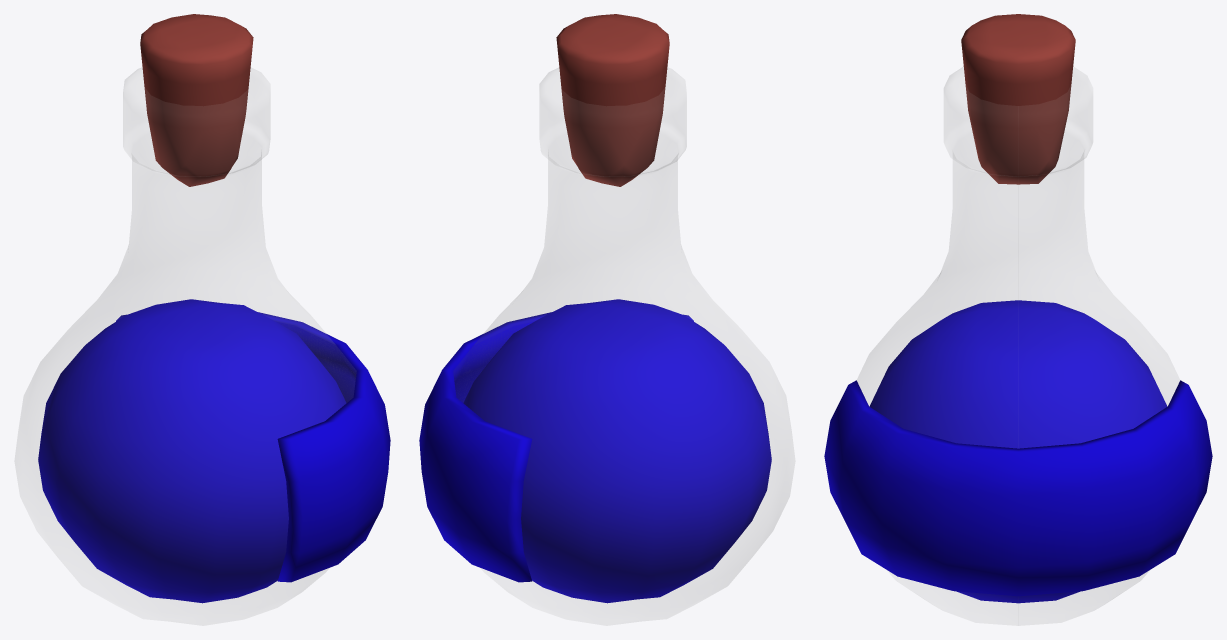
File: PickupPotionMana.dae
3 views of the same model, side by side, from view 1: azimuth 30°, elevation 25°; view 2: azimuth 150°, elevation 25°; view 3: azimuth 270°, elevation 25° (orthographic).
Visible parts, largest first — view 1: PotionMana; view 2: PotionMana; view 3: PotionMana.
Part boxes in pixels (bbox=[...]): PotionMana: bbox=[15, 14, 390, 625]; PotionMana: bbox=[419, 14, 794, 625]; PotionMana: bbox=[824, 14, 1212, 625].
Size of the model in its own units: 0.2712 by 0.2768 by 0.4415.
